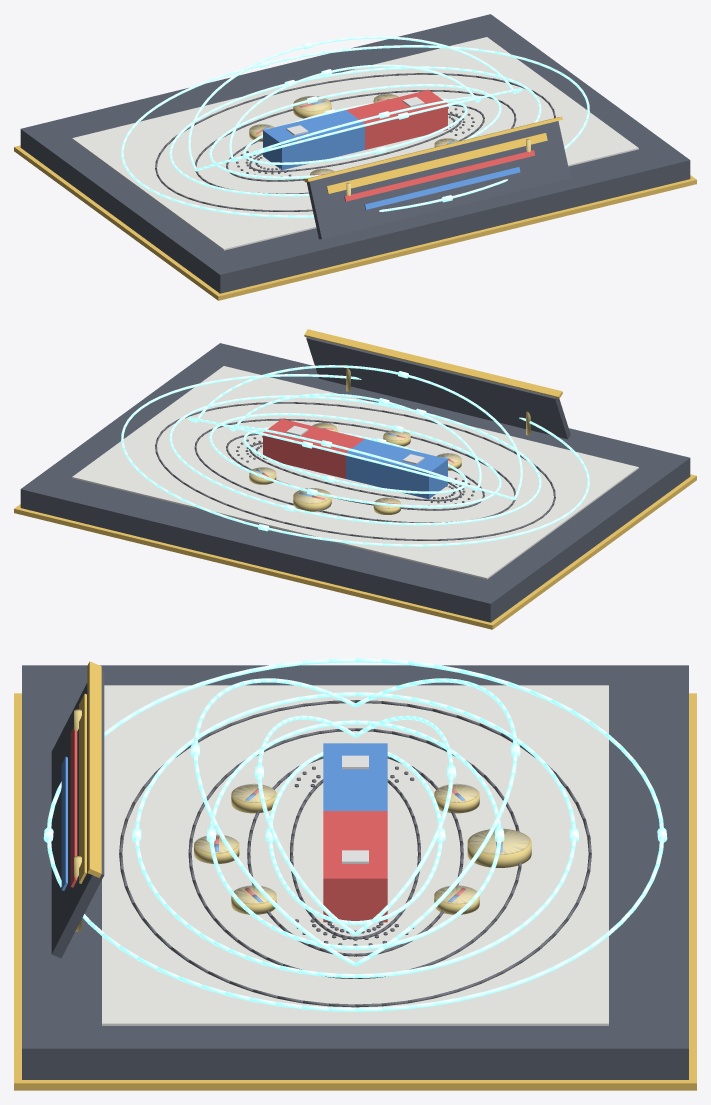
The model's file is bar-magnet.glb.
3 renders of one model, top to bottom at view 1: azimuth 30°, elevation 25°; view 2: azimuth 150°, elevation 25°; view 3: azimuth 270°, elevation 25°, orthographic. The views are drawn at different scales.
Parts seen in each view (by area): view 1: bm_det_plinth, bm_det_card, bm_det_plaque_face, bm_det_plinth_rim, bm_det_south, bm_det_north, bm_det_title_bar, bm_full_south, bm_full_north, bm_det_sub1, bm_det_plaque_trim, bm_det_sub2 (+1 smaller); view 2: bm_det_card, bm_det_plinth, bm_det_plaque_face, bm_det_plinth_rim, bm_det_south, bm_det_plaque_trim, bm_det_north, bm_full_north, bm_full_south, bm_full_compass_case; view 3: bm_det_card, bm_det_plinth, bm_det_plinth_rim, bm_det_north, bm_det_plaque_face, bm_det_south, bm_det_plaque_trim, bm_full_compass_case, bm_full_north, bm_det_title_bar, bm_det_sub1, bm_full_compass_glass (+6 smaller).
Part boxes in pixels (x1,y1,x2,y2): bm_det_plinth: (20,14,690,293); bm_det_card: (72,37,638,250); bm_det_plaque_face: (306,121,570,239); bm_det_plinth_rim: (14,145,696,300); bm_det_south: (263,110,364,168); bm_det_north: (346,90,447,136); bm_det_title_bar: (326,133,547,193); bm_full_south: (263,127,364,170); bm_full_north: (365,107,447,149); bm_det_sub1: (344,150,535,201); bm_det_plaque_trim: (304,116,562,182); bm_det_sub2: (364,167,520,209); bm_det_card: (72,366,638,579); bm_det_plinth: (20,343,690,622); bm_det_plaque_face: (306,336,570,439); bm_det_plinth_rim: (14,474,696,629); bm_det_south: (346,439,447,497); bm_det_plaque_trim: (304,329,562,398); bm_det_north: (263,418,364,464); bm_full_north: (263,436,345,478); bm_full_south: (346,459,447,499); bm_full_compass_case: (293,488,331,511); bm_det_card: (102,685,608,1025); bm_det_plinth: (22,665,688,1079); bm_det_plinth_rim: (14,693,696,1090); bm_det_north: (323,811,387,922); bm_det_plaque_face: (51,671,104,958); bm_det_south: (323,743,387,810); bm_det_plaque_trim: (87,661,101,877); bm_full_compass_case: (467,829,531,867); bm_full_north: (323,881,387,922); bm_det_title_bar: (79,693,86,883); bm_det_sub1: (70,727,77,887); bm_full_compass_glass: (470,828,529,854).
Size of the model in its own units: 0.346 by 0.0618 by 0.256.
